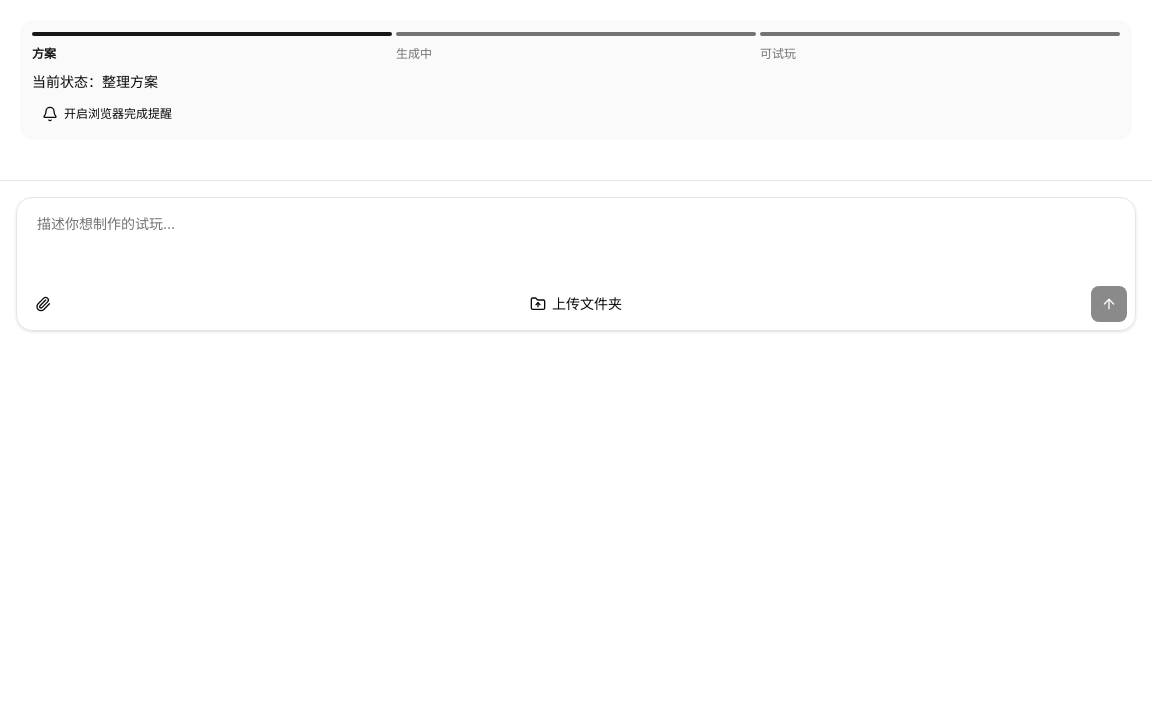
PlayableWorkspace › renders research progress and adopts persisted candidate IDs through the existing message flow
The width and height of the screenshot is (1152, 720).
Type "搜索麻将配对试玩广告" into the text box named "试玩需求" at (576, 246), box [25,206,1127,286]
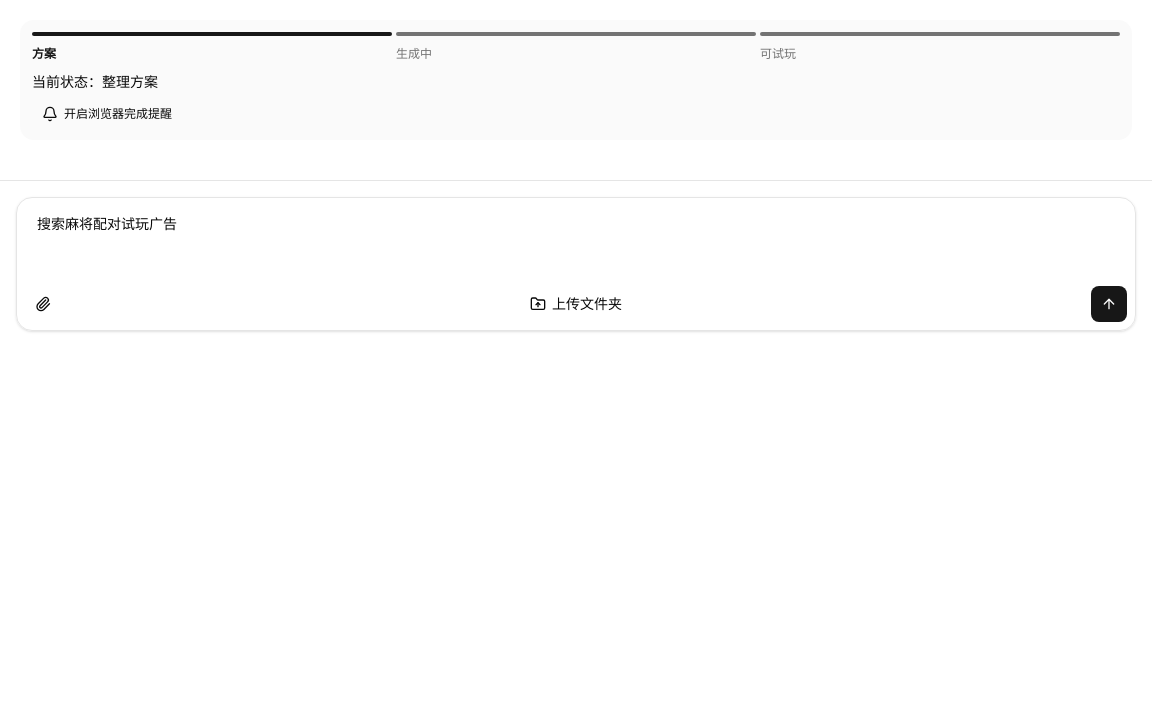
Click the button named "发送需求" at (1109, 304), box [1091,286,1127,322]
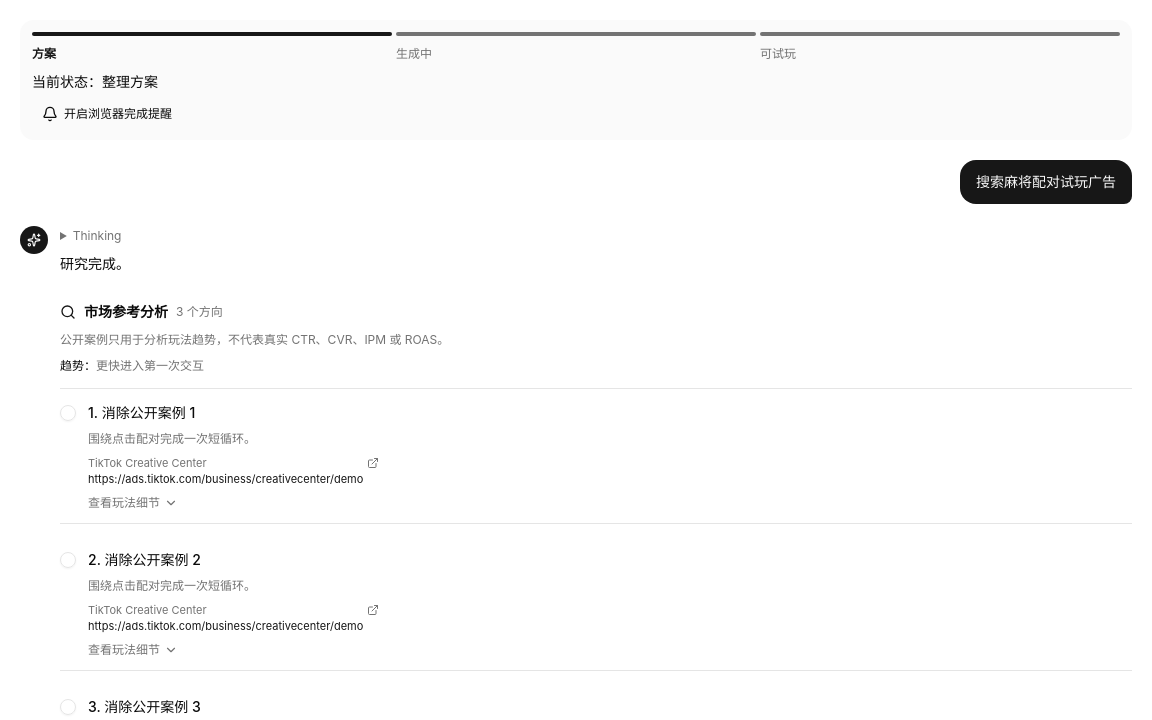
Click the 1st radio button at (68, 413), box [60,405,76,421]
(page scrolled)
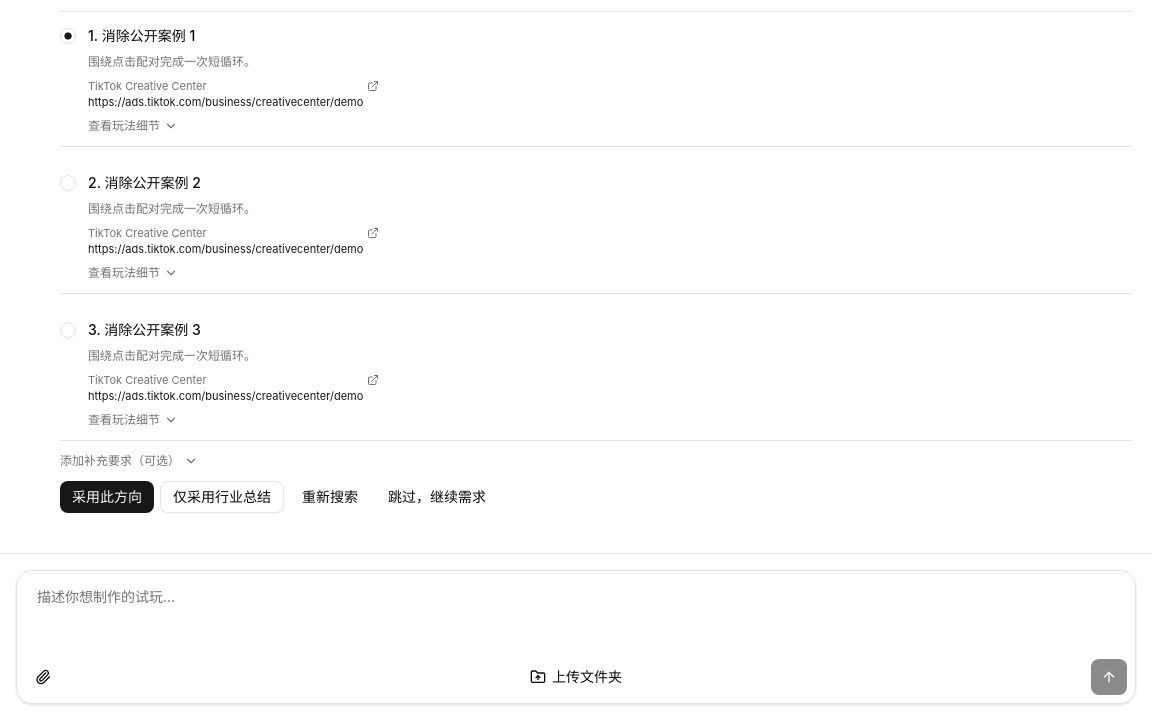
Click the button "采用此方向" at (107, 497), box [60,481,154,513]
(page scrolled)
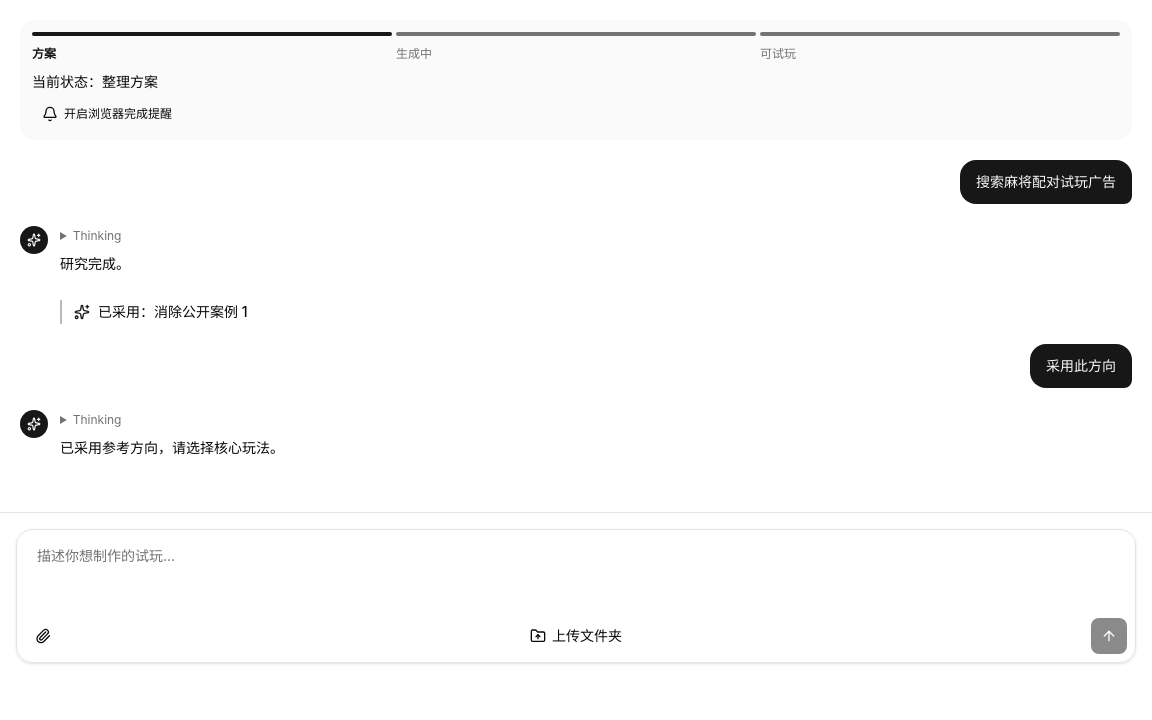
Expected: the text "已采用参考方向，请选择核心玩法。" is shown, [60,439,284,456]
